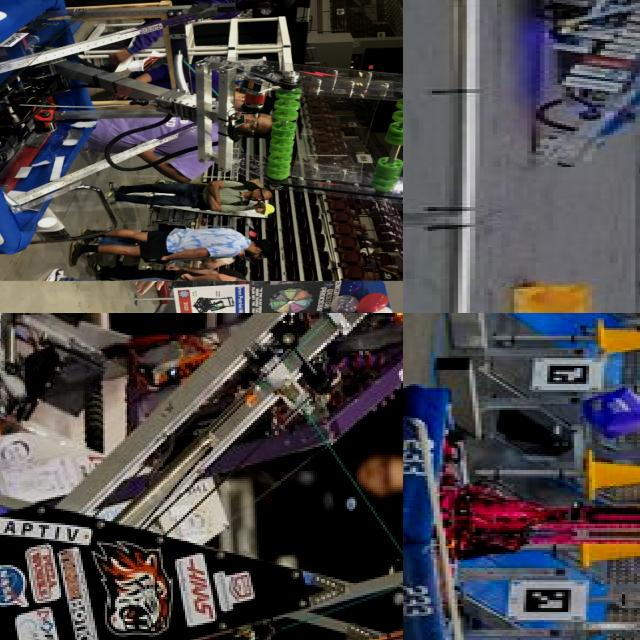FRC-Robots: (0, 313, 403, 640), (0, 0, 403, 270), (0, 313, 403, 467), (403, 440, 640, 640), (515, 0, 640, 160)
